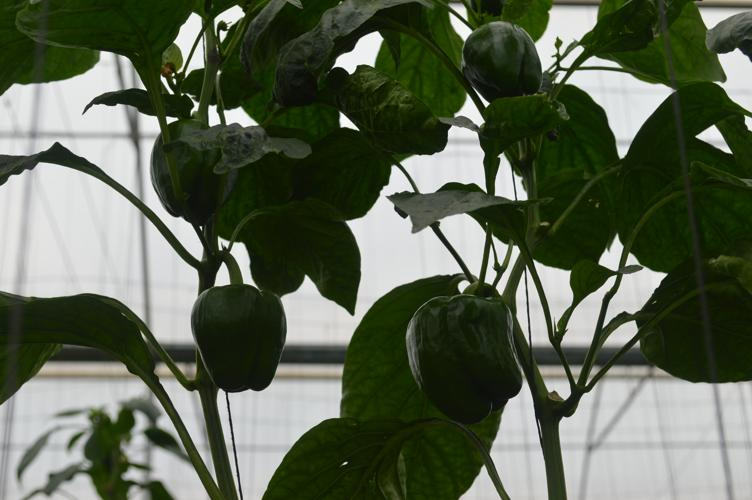BellPepper: (390, 286, 526, 439), (173, 275, 292, 401), (130, 107, 227, 237), (448, 17, 551, 112)
